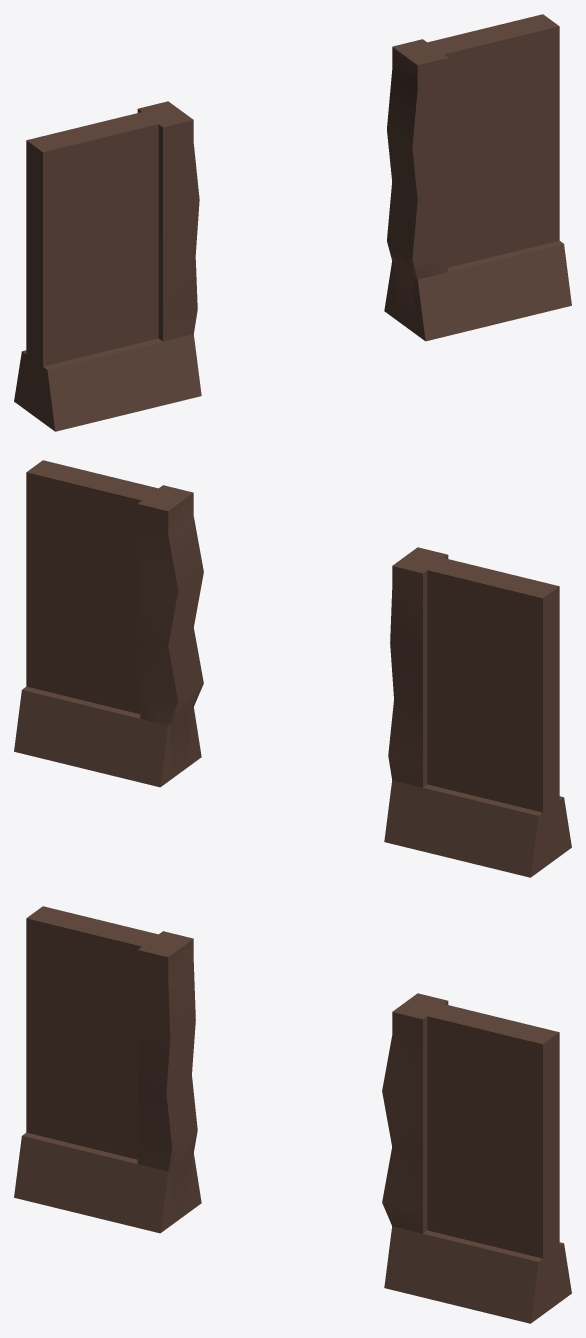
File: Wood Door Bottom.fbx
The picture shows the model from 3 angles, top to bottom: view 1: azimuth 30°, elevation 25°; view 2: azimuth 150°, elevation 25°; view 3: azimuth 330°, elevation 25°; orthographic projection.
Parts seen in each view (by area): view 1: Wood_Door_Bottom; view 2: Wood_Door_Bottom; view 3: Wood_Door_Bottom.
Part boxes in pixels (<box>): Wood_Door_Bottom: <box>14,14,571,431</box>; Wood_Door_Bottom: <box>14,460,571,877</box>; Wood_Door_Bottom: <box>14,906,571,1323</box>.
Size of the model in its own units: 2 by 1 by 0.2771.
